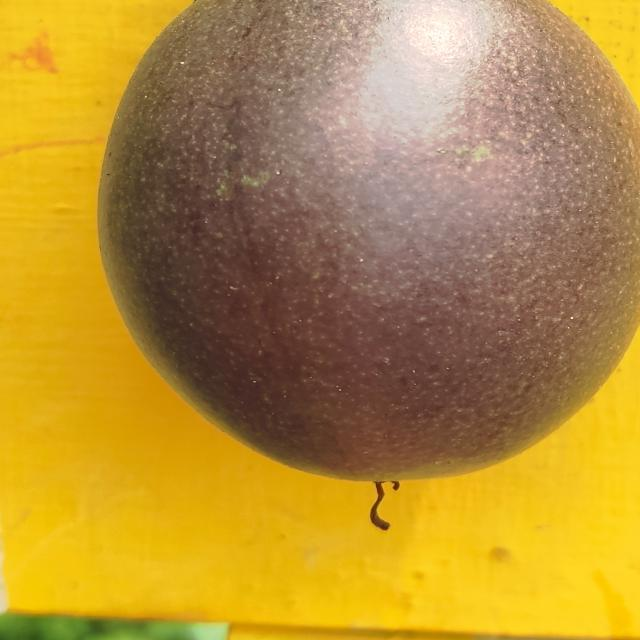Estado-6: (98, 0, 640, 483)
